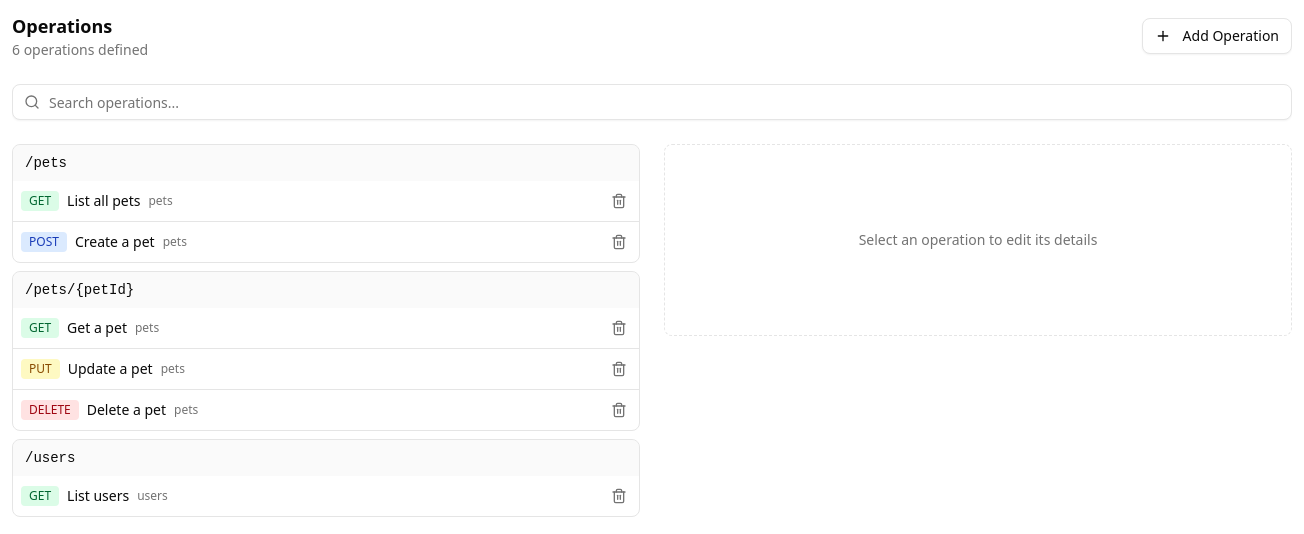
Test case: OperationsTab › Search and Filter › should filter operations by summary
In the search field labelled "Search operations...": (652, 102) [12,84,1292,120], type "Create"
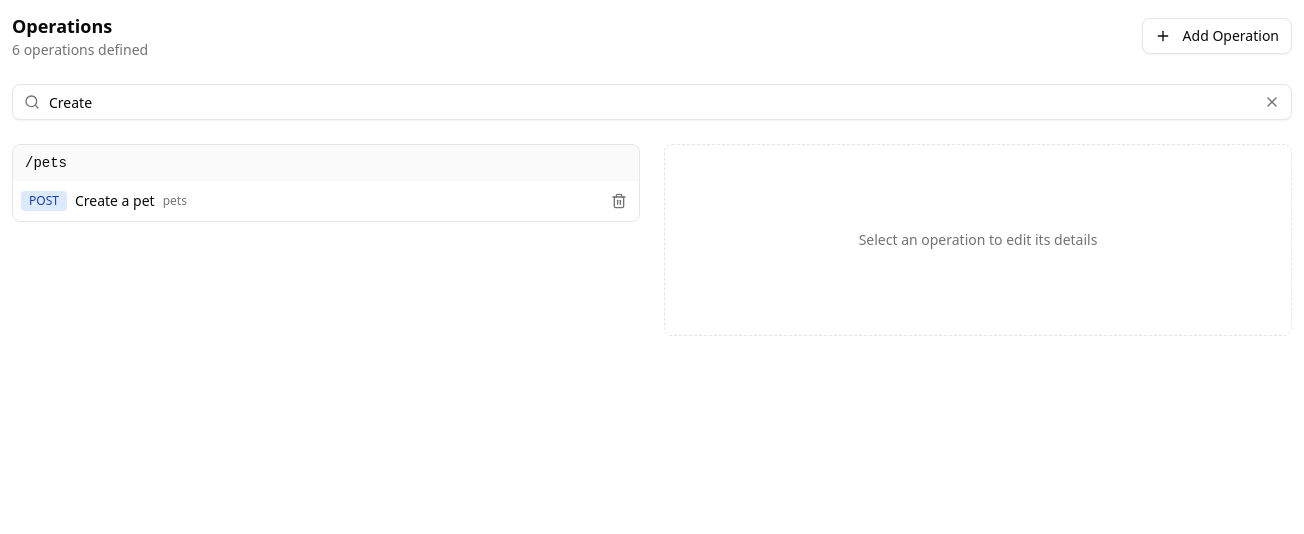
Expected: the text "Create a pet" is shown, [75,191,155,211]
Now the button "List all pets" is gone
